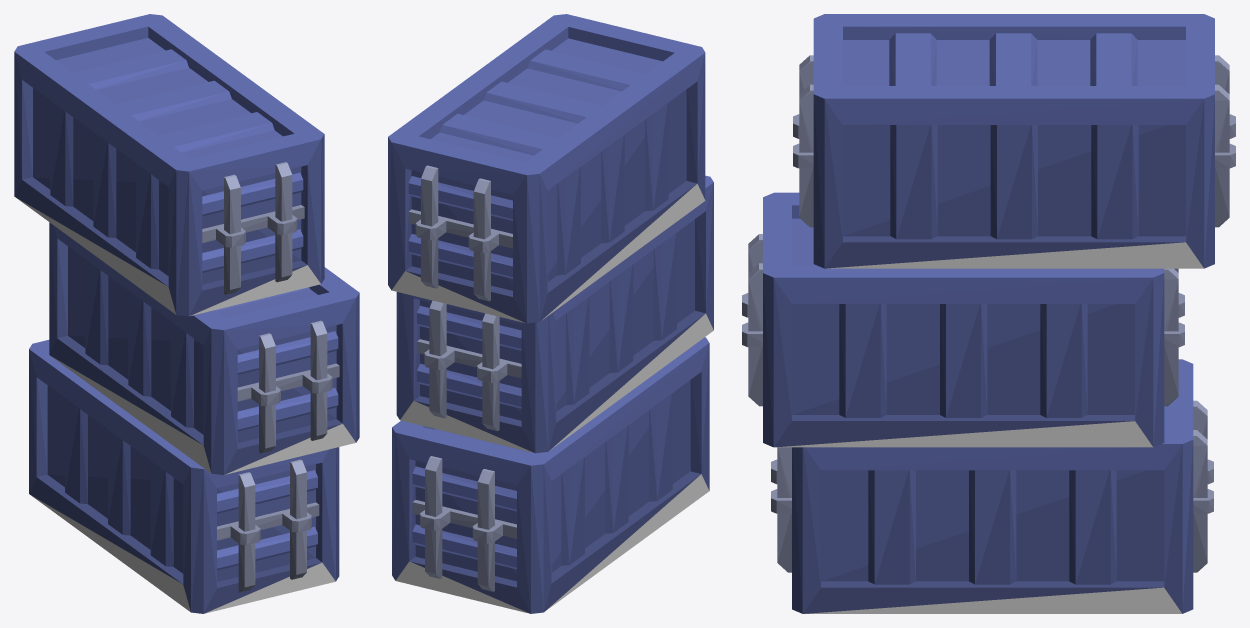
Rendered from containerStack.glb.
3 views of the same model, side by side, from view 1: azimuth 30°, elevation 25°; view 2: azimuth 150°, elevation 25°; view 3: azimuth 270°, elevation 25° (orthographic). The views are drawn at different scales.
Parts seen in each view (by area): view 1: body; view 2: body; view 3: body.
Boxes of the visible parts, bbox=[...] form: body: bbox=[14, 14, 359, 613]; body: bbox=[388, 14, 713, 613]; body: bbox=[742, 14, 1235, 613].
Bounding box in the file's own units: 3.01 × 7.78 × 6.8.
